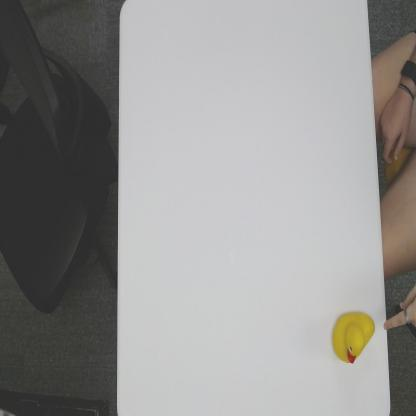Duck: (331, 306, 376, 366)
